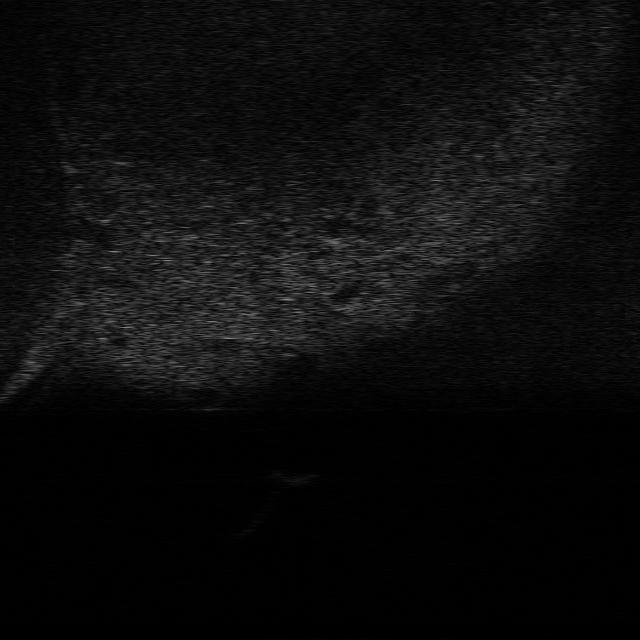cube: (274, 463, 320, 487)
